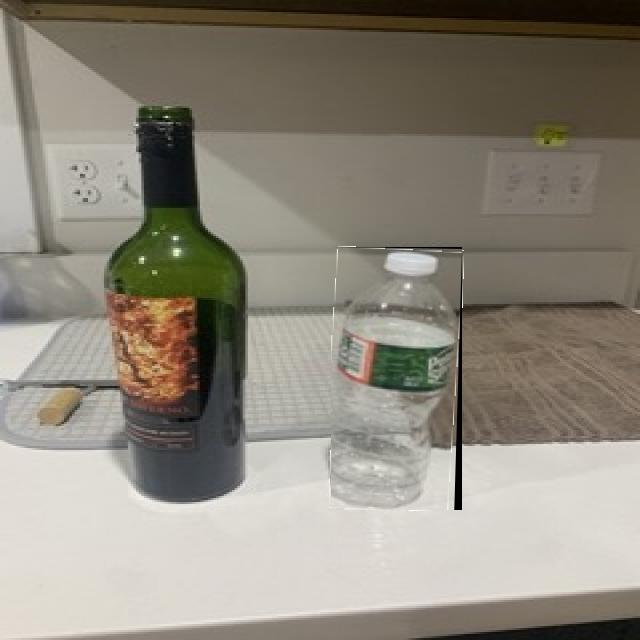water_bottle: (331, 247, 462, 510)
